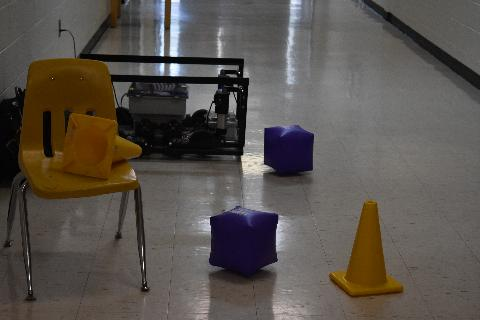cone: (330, 202, 404, 296), (62, 114, 142, 178)
cube: (210, 206, 278, 276), (264, 124, 314, 176)
